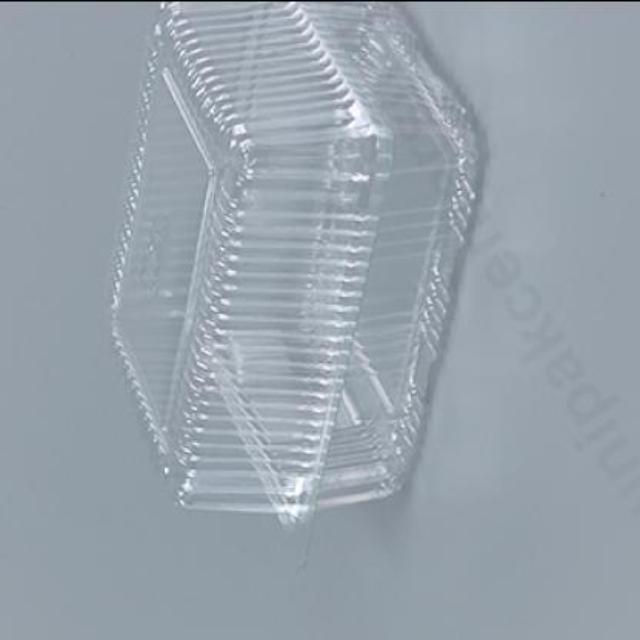plastic_box: (110, 2, 482, 562)
